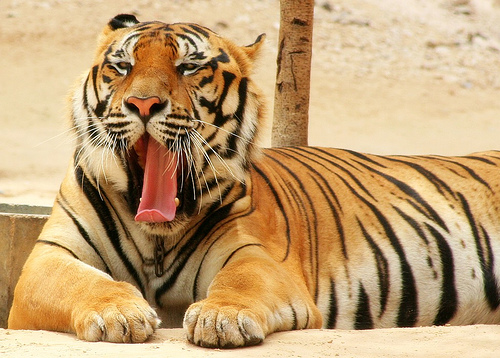Tigre: (39, 8, 489, 336)
